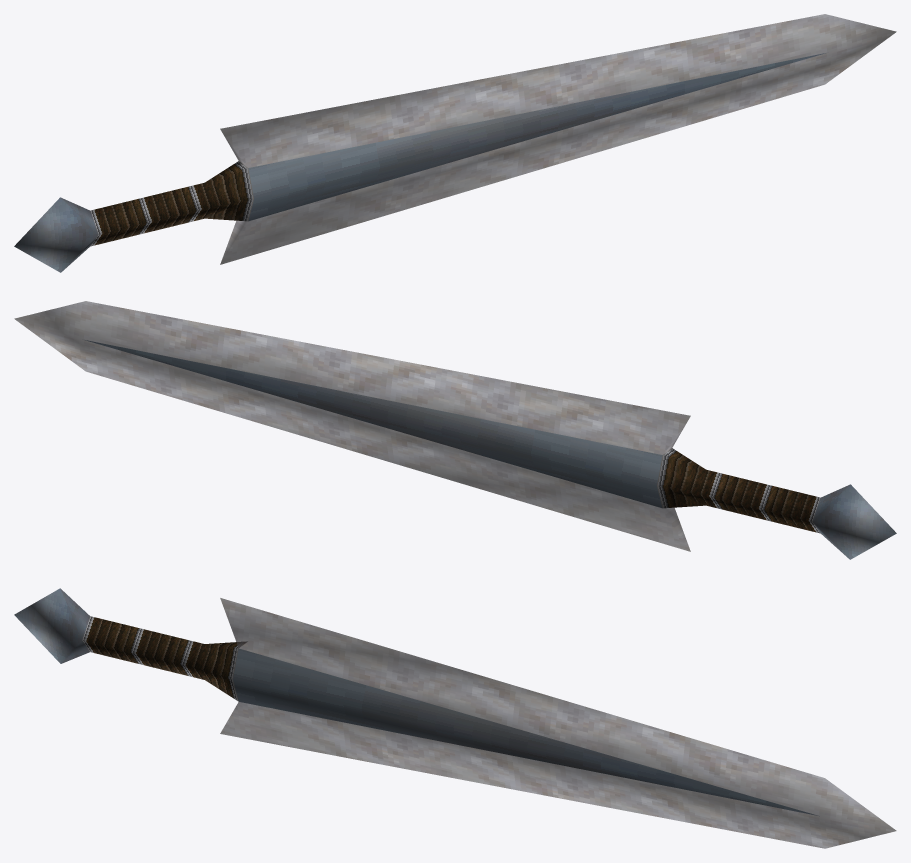
3 views of the same model, one above another, from view 1: azimuth 30°, elevation 25°; view 2: azimuth 150°, elevation 25°; view 3: azimuth 330°, elevation 25° (orthographic).
Visible parts, largest first — view 1: it121; view 2: it121; view 3: it121.
Boxes of the visible parts, x1,y1,x2,y2 form: it121: (14,14,896,272); it121: (14,301,896,559); it121: (14,588,896,848).
Bounding box in the file's own units: 4.31 × 0.6353 × 0.1792.
Materials: 3 (3 with a texture image).
